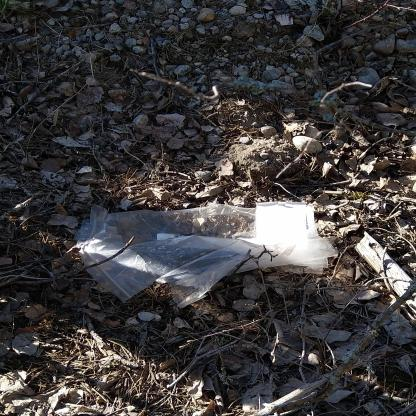plastik: (78, 202, 335, 306)
